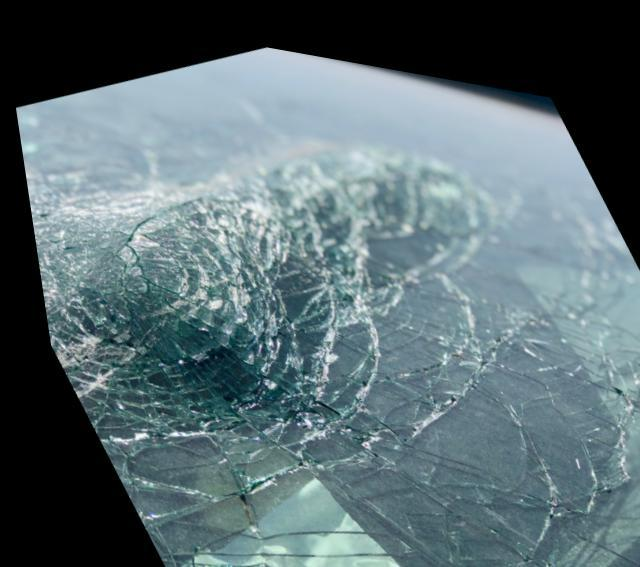glass shatter: (13, 37, 640, 567)
